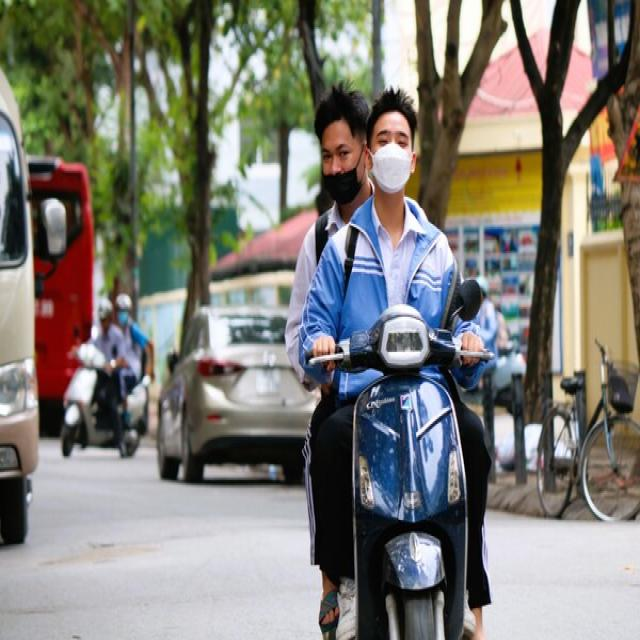no_helmet: (359, 73, 429, 207)
